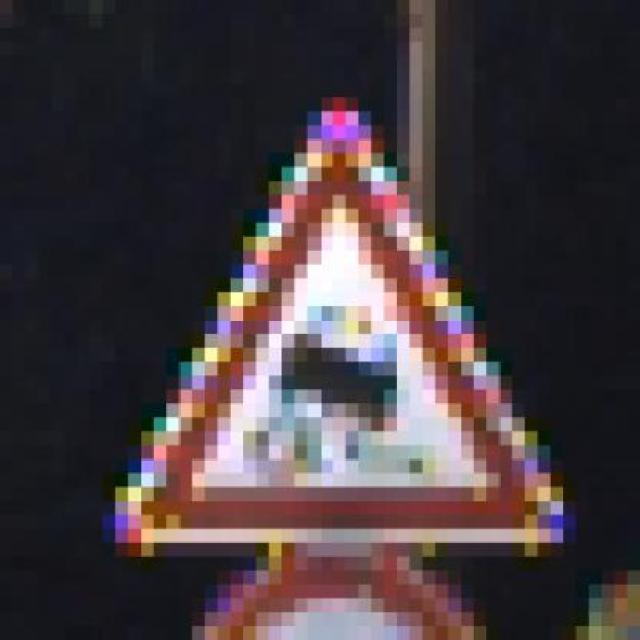Slippery Road Ahead: (115, 97, 576, 557)
